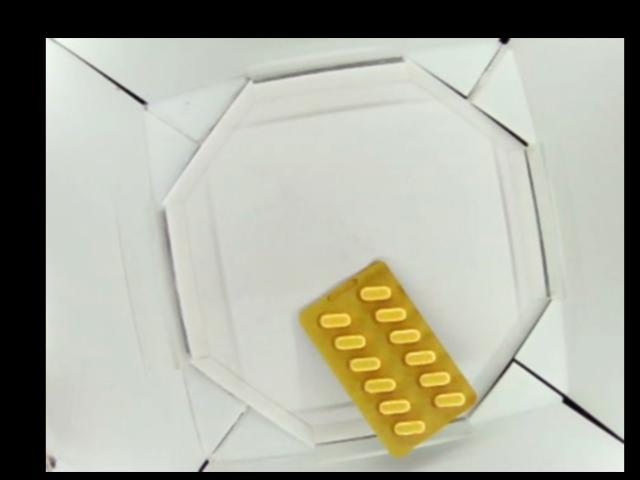Medicine: (298, 255, 475, 459)
